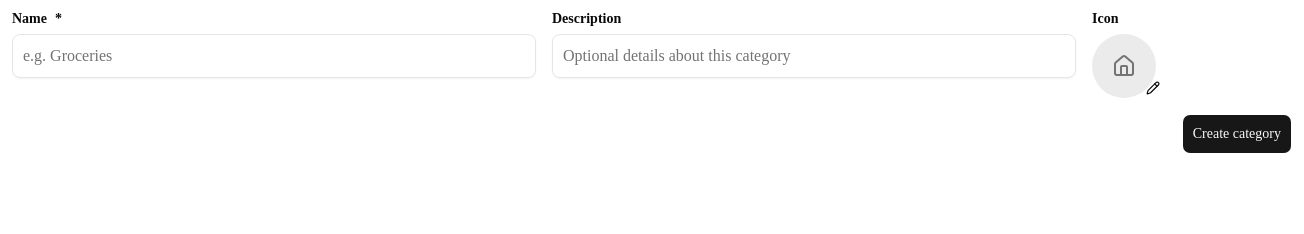
Test case: CategoryForm › renders the server error string directly, with no further translation
The image size is (1304, 234).
Step 1. Type "Groceries" into the field labelled "Name *" → [274, 56], box top-left (12, 34), bottom-right (536, 78)
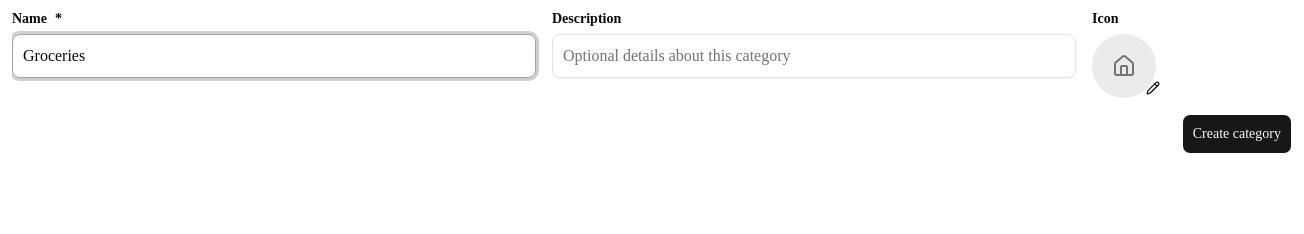
Step 2. Click the button "Create category" → [1237, 134], box top-left (1182, 114), bottom-right (1292, 154)
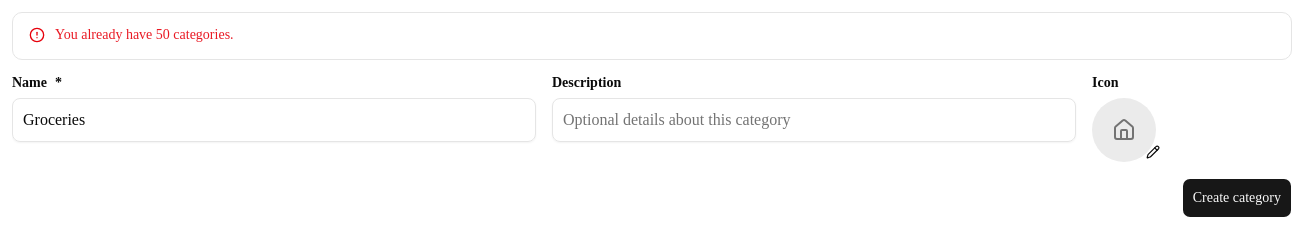
Expected: the message reads "You already have 50 categories.", top-left (55, 27), bottom-right (234, 42)
